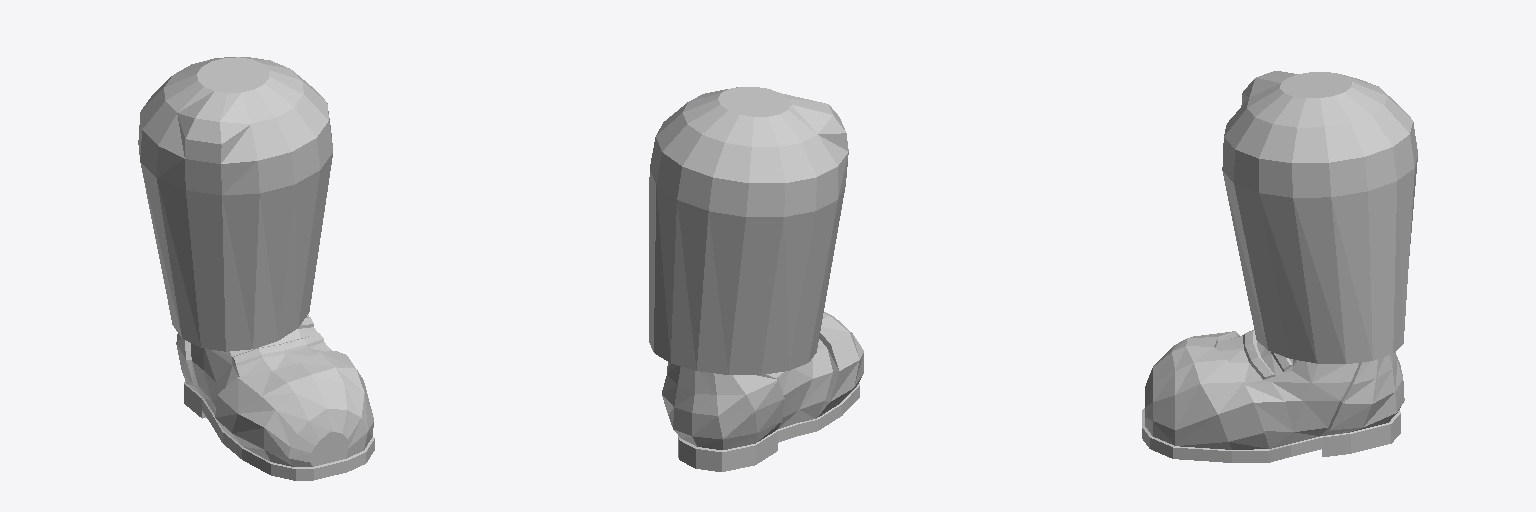
Rendered from RLD.obj.
3 views of the same model, side by side, from view 1: azimuth 30°, elevation 25°; view 2: azimuth 150°, elevation 25°; view 3: azimuth 270°, elevation 25° (orthographic).
Visible parts, largest first — view 1: al:lowlegL, al:shoe1L3, al:shoe1L6, al:shoe3L1, al:shoe1L1, al:shoe2L4, al:shoe4L, al:shoe1L7, al:shoe2L, al:shoe2L3; view 2: al:lowlegL, al:shoe1L4, al:shoe3L1, al:shoe1L6, al:shoe2L4, al:shoe2L3, al:shoe1L3; view 3: al:lowlegL, al:shoe1L1, al:shoe2L, al:shoe3L1, al:shoe1L4, al:shoe1L3, al:shoe2L6, al:shoe4L.
Boxes of the visible parts, x1,y1,x2,y2 form: al:lowlegL: [138, 57, 332, 351]; al:shoe1L3: [238, 371, 373, 461]; al:shoe1L6: [215, 375, 316, 466]; al:shoe3L1: [184, 381, 374, 480]; al:shoe1L1: [300, 351, 373, 417]; al:shoe2L4: [204, 349, 239, 414]; al:shoe4L: [232, 317, 323, 366]; al:shoe1L7: [310, 431, 348, 466]; al:shoe2L: [278, 315, 331, 363]; al:shoe2L3: [191, 343, 212, 411]; al:lowlegL: [649, 87, 848, 374]; al:shoe1L4: [662, 362, 784, 449]; al:shoe3L1: [678, 383, 859, 471]; al:shoe1L6: [817, 312, 863, 417]; al:shoe2L4: [792, 347, 832, 422]; al:shoe2L3: [767, 370, 798, 429]; al:shoe1L3: [819, 316, 849, 347]; al:lowlegL: [1222, 71, 1417, 363]; al:shoe1L1: [1172, 346, 1268, 449]; al:shoe2L: [1219, 343, 1358, 448]; al:shoe3L1: [1142, 408, 1400, 462]; al:shoe1L4: [1321, 352, 1404, 435]; al:shoe1L3: [1145, 331, 1235, 445]; al:shoe2L6: [1254, 402, 1293, 431]; al:shoe4L: [1243, 330, 1292, 379].
Bounding box in the file's own units: 0.7978 × 1.54 × 1.13.